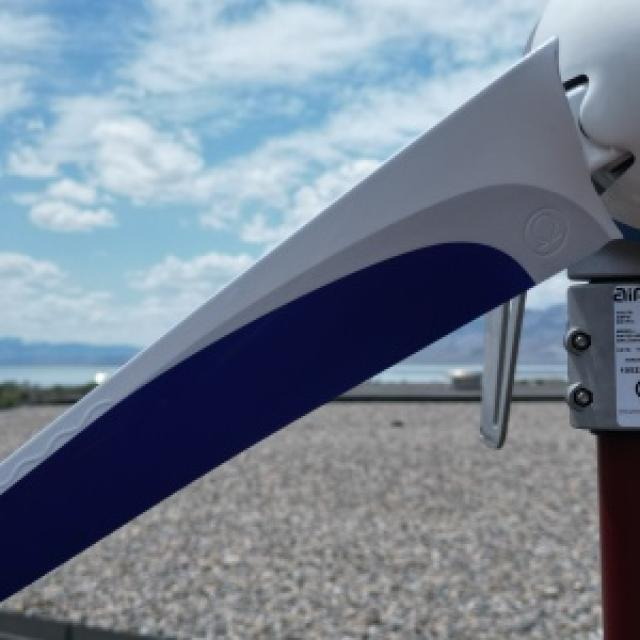healthy: (4, 401, 595, 638)
